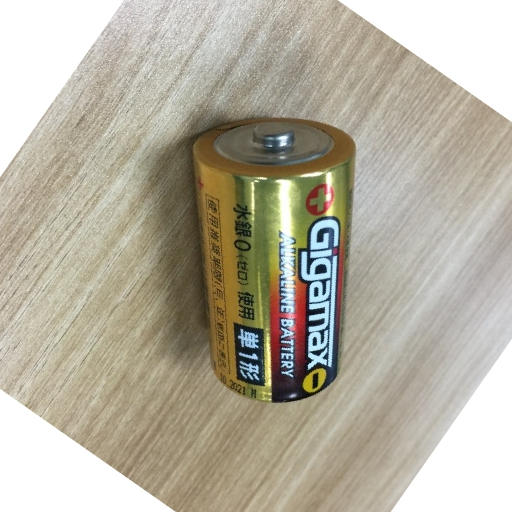Battery_0: (182, 107, 356, 412)
